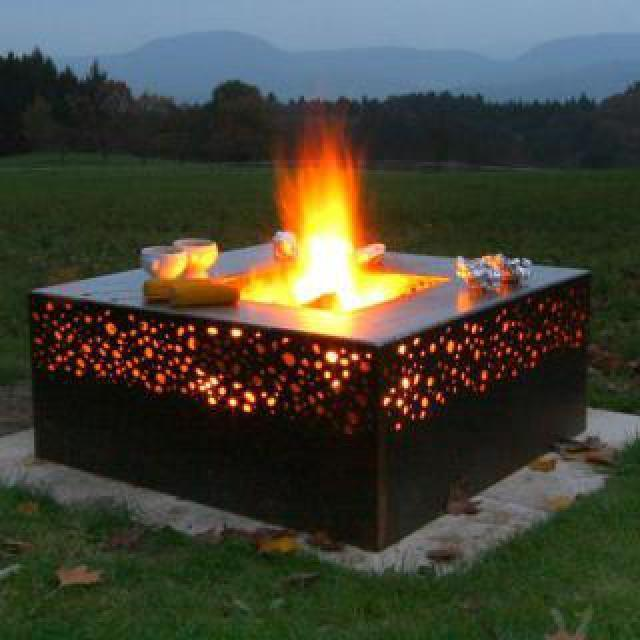Fire: (264, 128, 374, 312)
